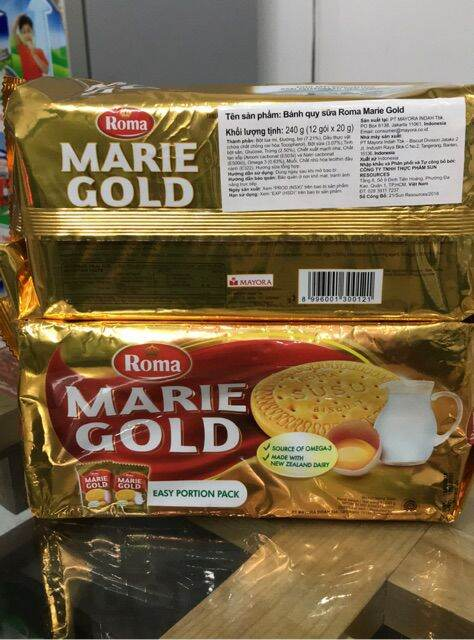Roma Marie Gold (240g): (4, 71, 473, 322), (7, 323, 473, 539)
